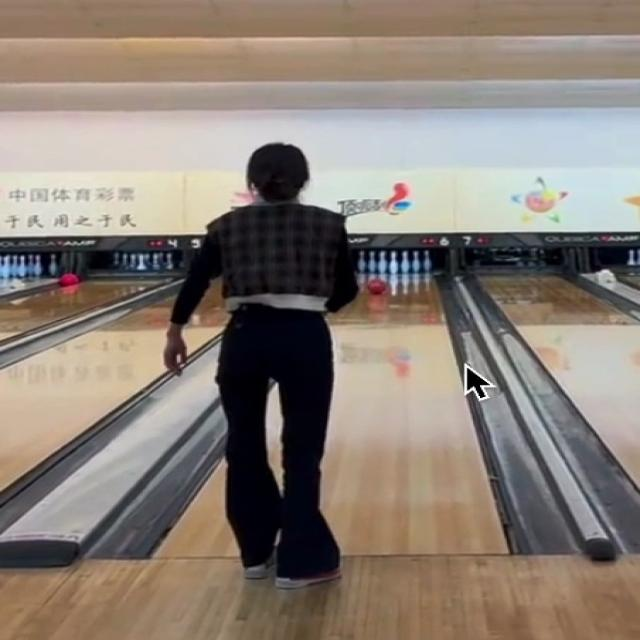alley: (321, 272, 504, 552), (161, 468, 235, 558)
balls: (366, 278, 388, 294), (627, 330, 640, 346)
bottle: (358, 249, 432, 276)
